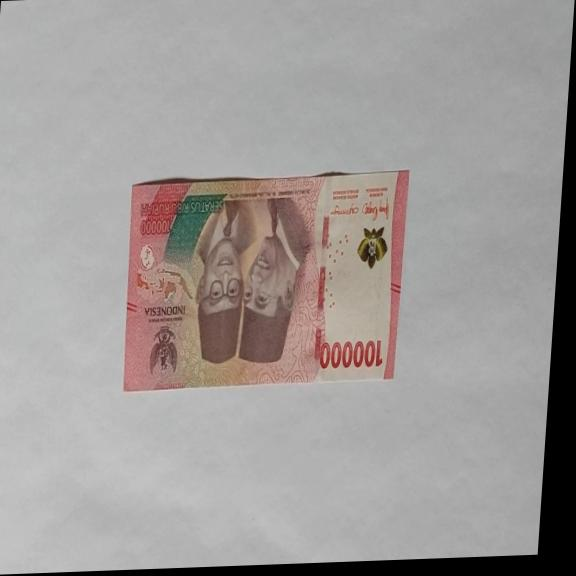Kertas: (117, 168, 409, 393), (317, 337, 385, 373)
